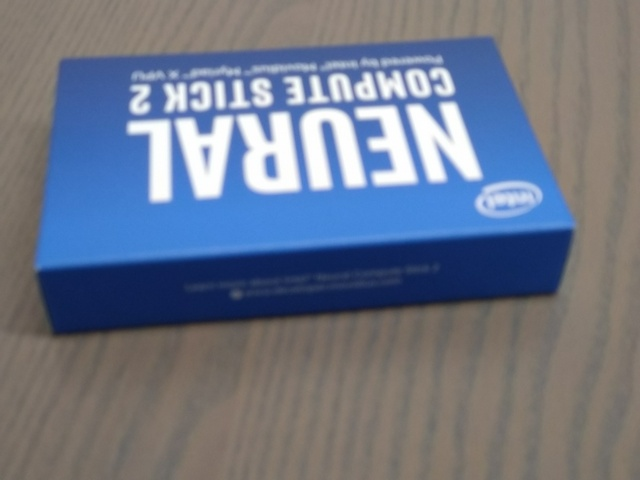box: (32, 34, 577, 340)
